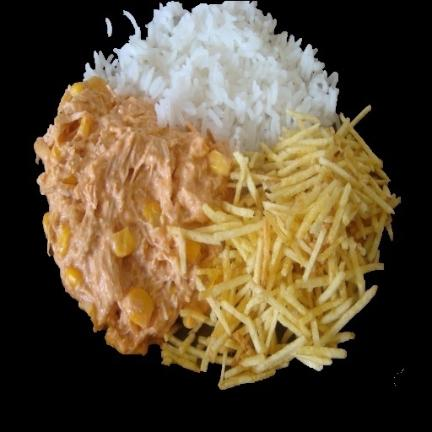chicken: (35, 78, 230, 354)
potato: (161, 106, 399, 388)
rice: (84, 2, 338, 149)
